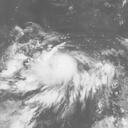cyclone: (22, 48, 94, 104)
